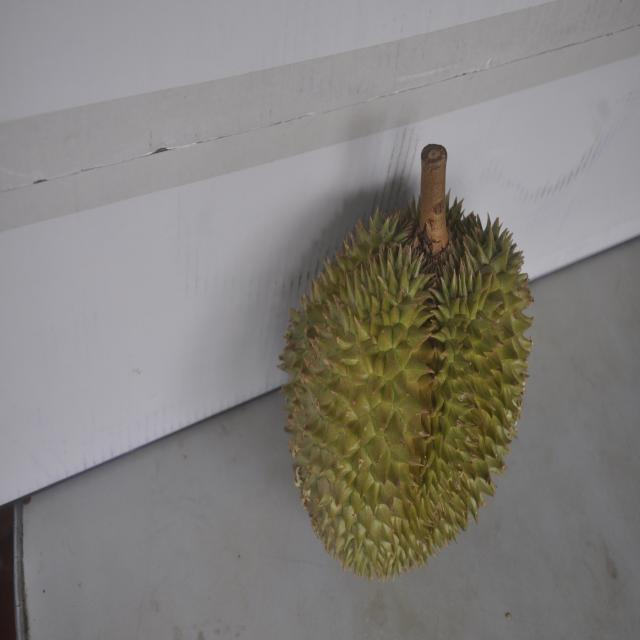mature: (303, 147, 537, 576)
